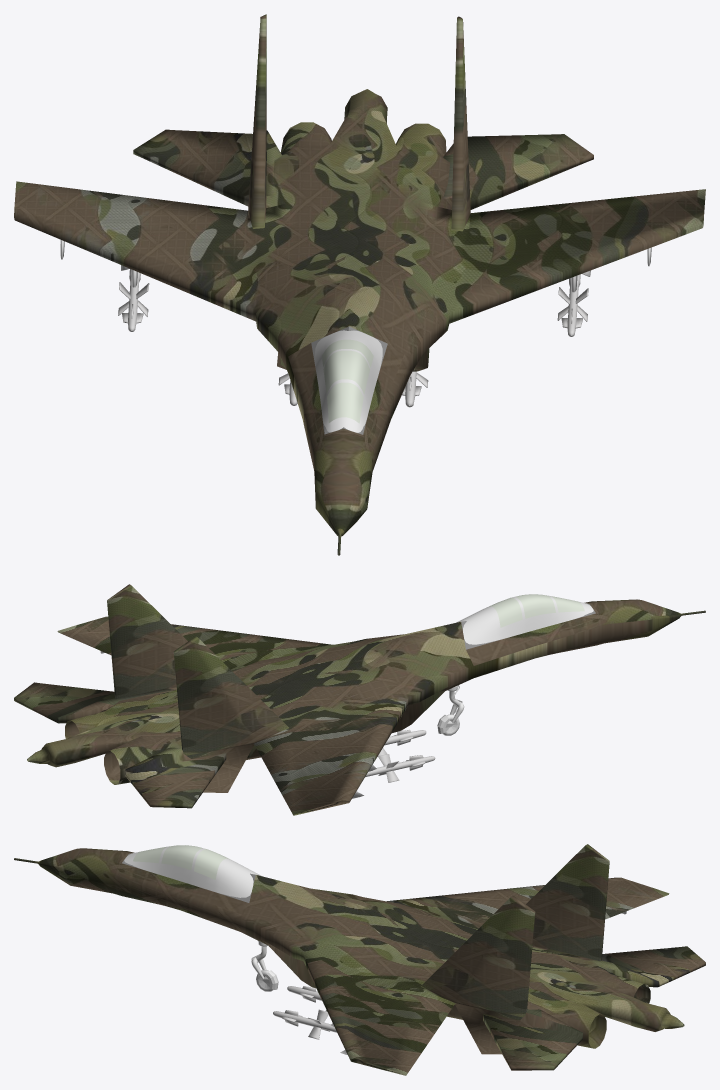
File: MillitaryPlane2.glb
3 renders of one model, top to bottom at view 1: azimuth 30°, elevation 25°; view 2: azimuth 150°, elevation 25°; view 3: azimuth 270°, elevation 25°, orthographic. The views are drawn at different scales.
Parts seen in each view (by area): view 1: Cube, Cube.001, Cube.002, Cube.004, Circle.004, Circle.007; view 2: Cube, Cube.001, Cube.002, Circle.007, Circle.006, Circle; view 3: Cube, Cube.001, Cube.002, Circle.004, Circle.
Part boxes in pixels (x1,y1,x2,y2): Cube: (14,14,705,555); Cube.001: (314,330,382,432); Cube.002: (322,339,373,394); Cube.004: (327,382,363,423); Circle.004: (557,270,590,336); Circle.007: (118,265,149,331); Cube: (14,584,705,815); Cube.001: (456,595,593,644); Cube.002: (489,594,555,627); Circle.007: (365,754,435,782); Circle.006: (377,730,426,756); Circle: (442,685,464,735); Cube: (14,844,705,1075); Cube.001: (124,846,262,897); Cube.002: (161,845,228,879); Circle.004: (273,1009,337,1039); Circle: (251,941,273,991).
Size of the model in its own units: 5.11 by 2.04 by 6.59.
Materials: 5 (1 with a texture image).
